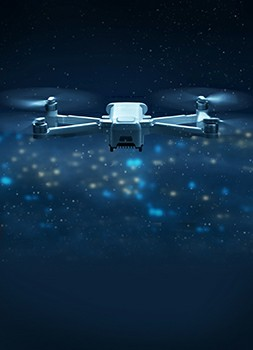maybay_khongnguoilai: (4, 84, 249, 147)
